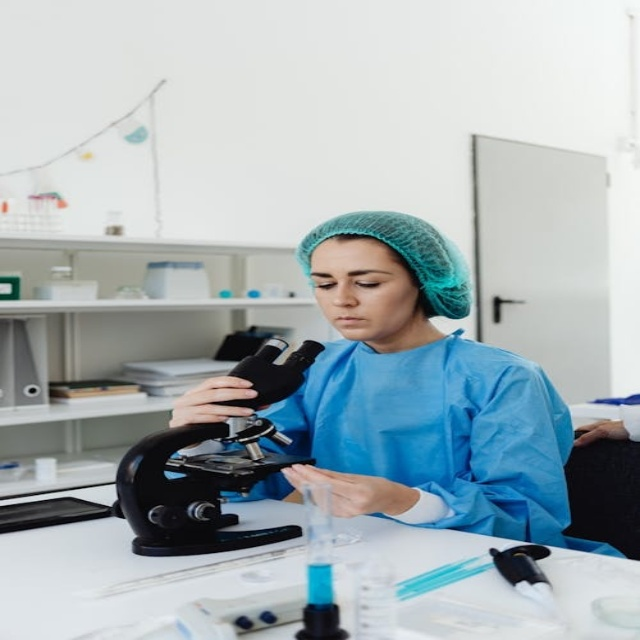Sin_gafas: (305, 265, 399, 294)
Sin_guantes: (279, 463, 419, 520), (167, 375, 263, 430), (572, 418, 630, 445)
Sin_mascara: (324, 310, 388, 334)
